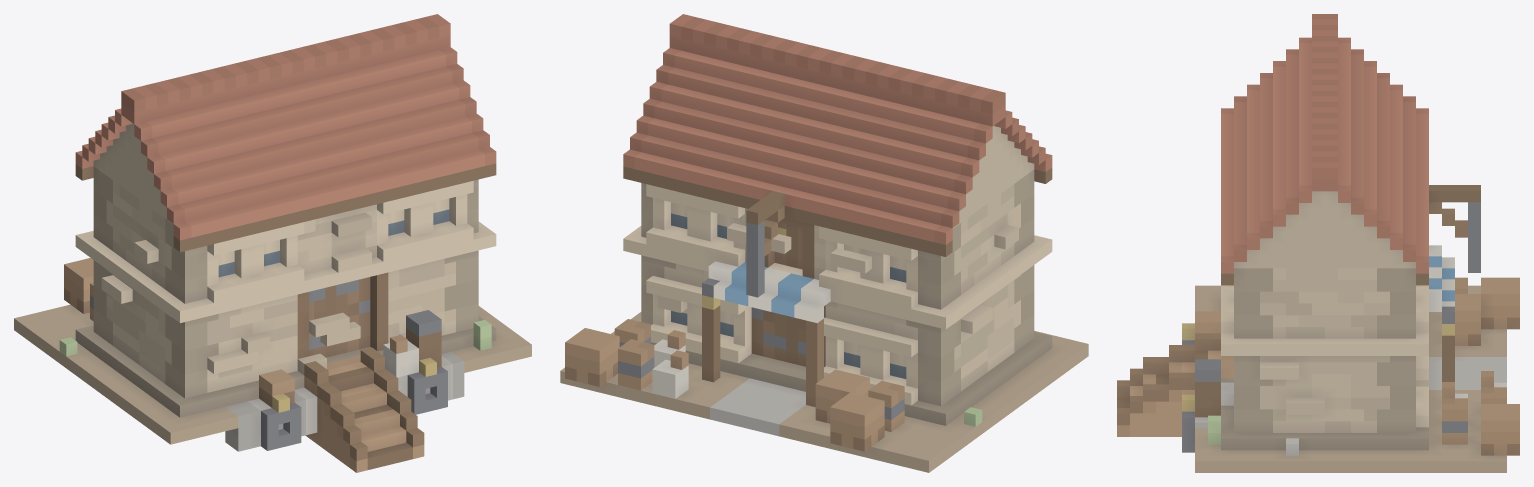
Rendered from depot.l2.glb.
3 renders of one model, left to right at view 1: azimuth 30°, elevation 25°; view 2: azimuth 150°, elevation 25°; view 3: azimuth 270°, elevation 25°, orthographic. The views are drawn at different scales.
Parts seen in each view (by area): view 1: depot; view 2: depot; view 3: depot.
Part boxes in pixels (<box>): depot: <box>14,14,531,472</box>; depot: <box>560,14,1088,472</box>; depot: <box>1117,14,1519,472</box>.
Bounding box in the file's own units: 4 × 3.5 × 3.88.
